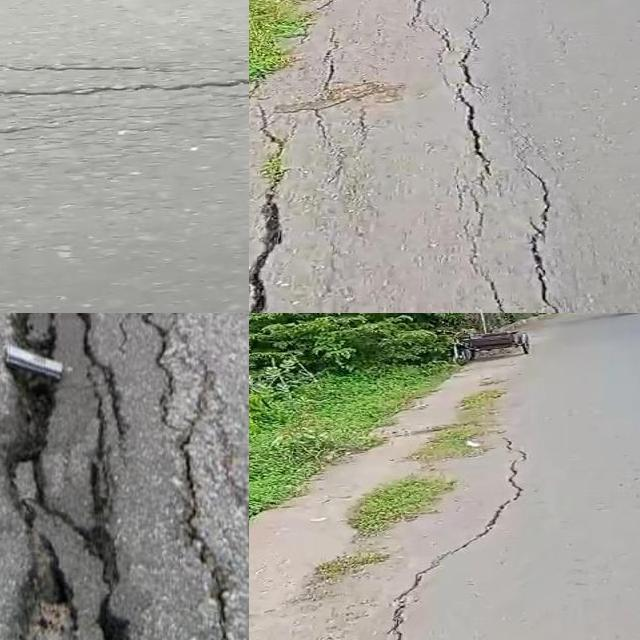Melintang: (0, 67, 249, 113)
Memanjang: (0, 313, 162, 640), (375, 425, 537, 640), (451, 0, 507, 196), (514, 157, 568, 313)
Pinggir: (249, 0, 373, 179)
